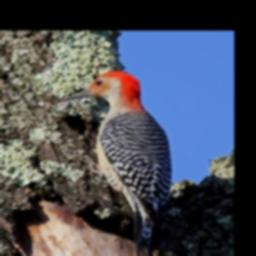Woodpecker: (62, 69, 174, 256)
